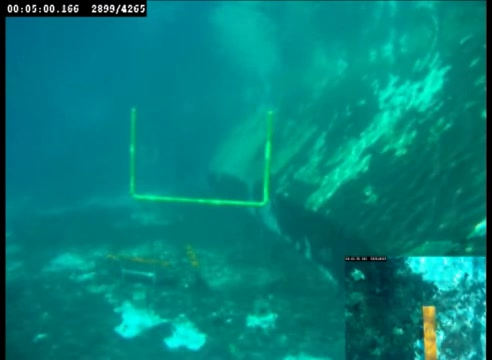channel: (124, 107, 282, 206)
